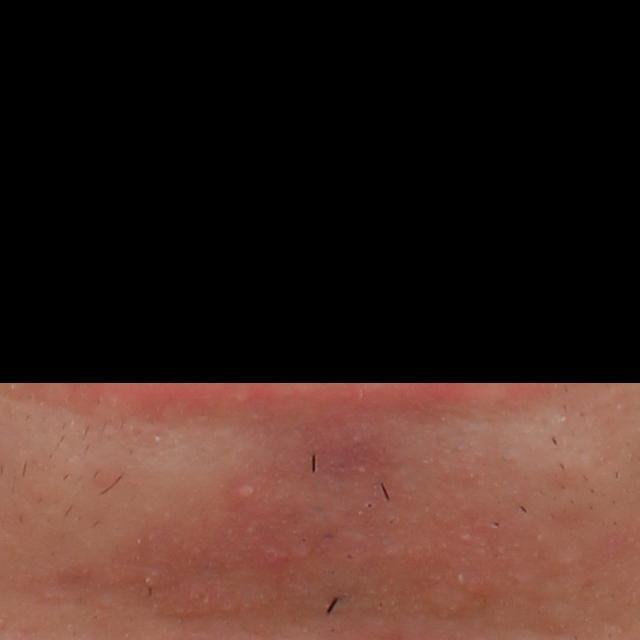pustule: (231, 478, 259, 504)
